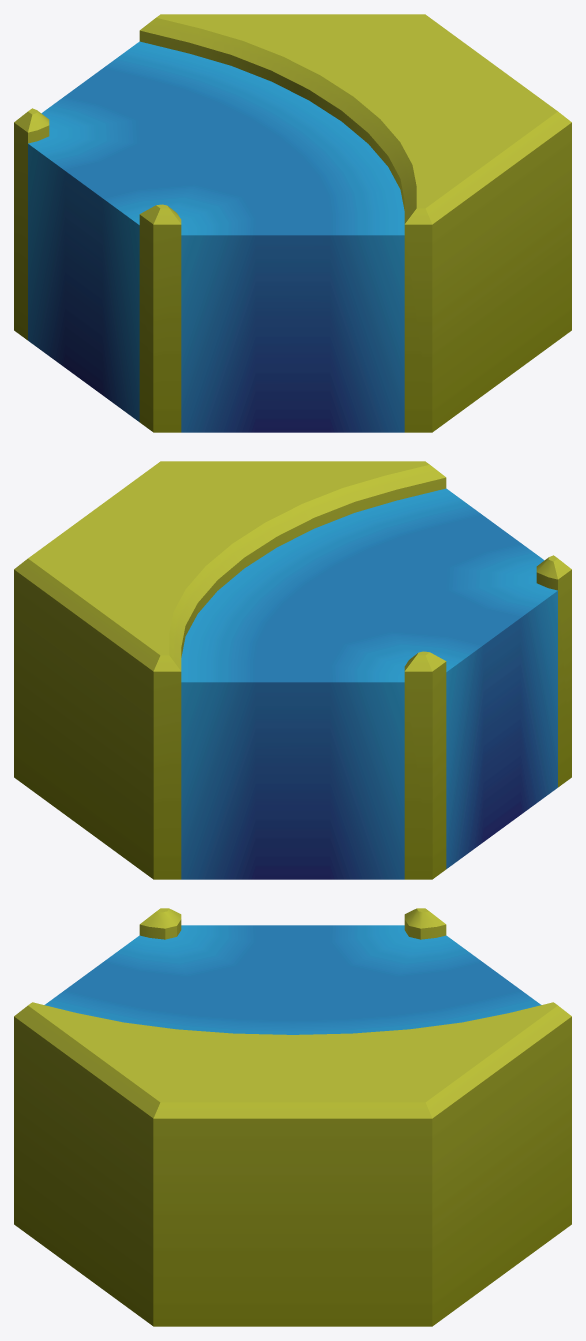
The model's file is kaykit-medieval-hexagon-pack-hex-river-g.glb.
3 renders of one model, top to bottom at view 1: azimuth 30°, elevation 25°; view 2: azimuth 150°, elevation 25°; view 3: azimuth 270°, elevation 25°, orthographic.
Visible parts, largest first — view 1: hex_river_G; view 2: hex_river_G; view 3: hex_river_G.
Boxes of the visible parts, x1,y1,x2,y2 form: hex_river_G: (14, 14, 571, 432); hex_river_G: (14, 461, 571, 879); hex_river_G: (14, 908, 571, 1326).
Bounding box in the file's own units: 2 × 1 × 2.31.
1 material, 1 textured.
